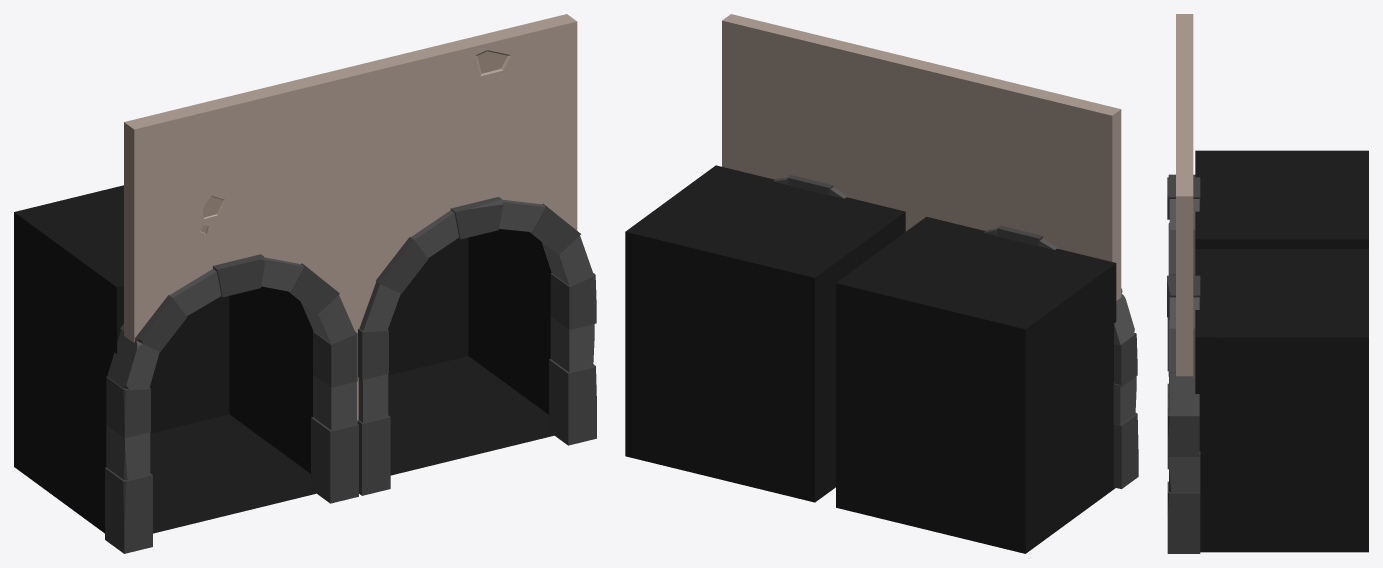
The model's file is Wall2_08.fbx.
3 views of the same model, side by side, from view 1: azimuth 30°, elevation 25°; view 2: azimuth 150°, elevation 25°; view 3: azimuth 270°, elevation 25° (orthographic). The views are drawn at different scales.
Parts seen in each view (by area): view 1: Wall2_08; view 2: Wall2_08; view 3: Wall2_08.
Boxes of the visible parts, x1,y1,x2,y2 form: Wall2_08: [14, 14, 596, 553]; Wall2_08: [625, 14, 1138, 553]; Wall2_08: [1167, 14, 1368, 553].
Size of the model in its own units: 1067 by 906 by 468.
